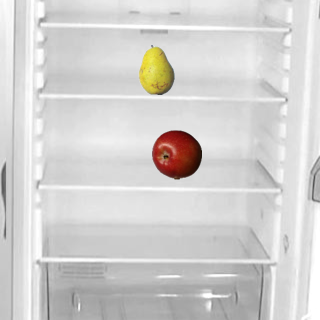Apple Braeburn: (151, 129, 201, 179)
Pear Monster: (131, 44, 181, 94)
